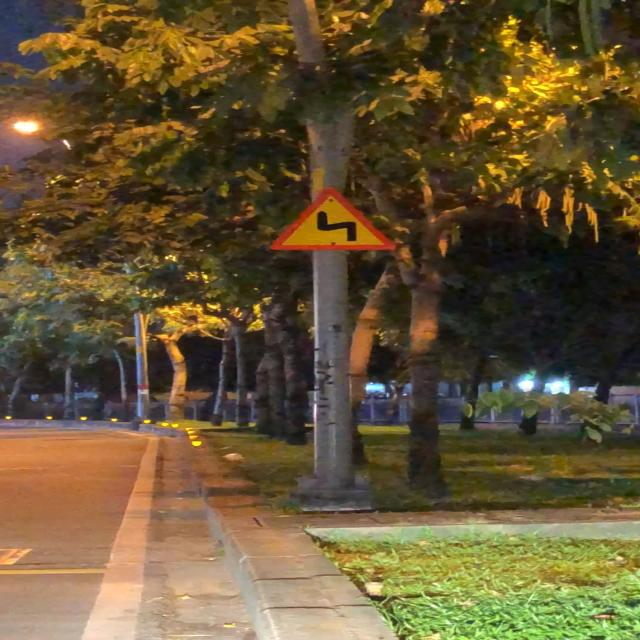Bien bao nhieu cho ngoat nguy hiem lien tiep: (266, 184, 406, 253)
